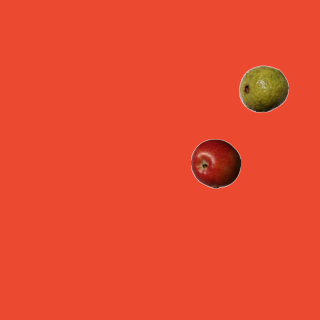Apple Braeburn: (190, 138, 240, 188)
Guava: (238, 63, 288, 113)
